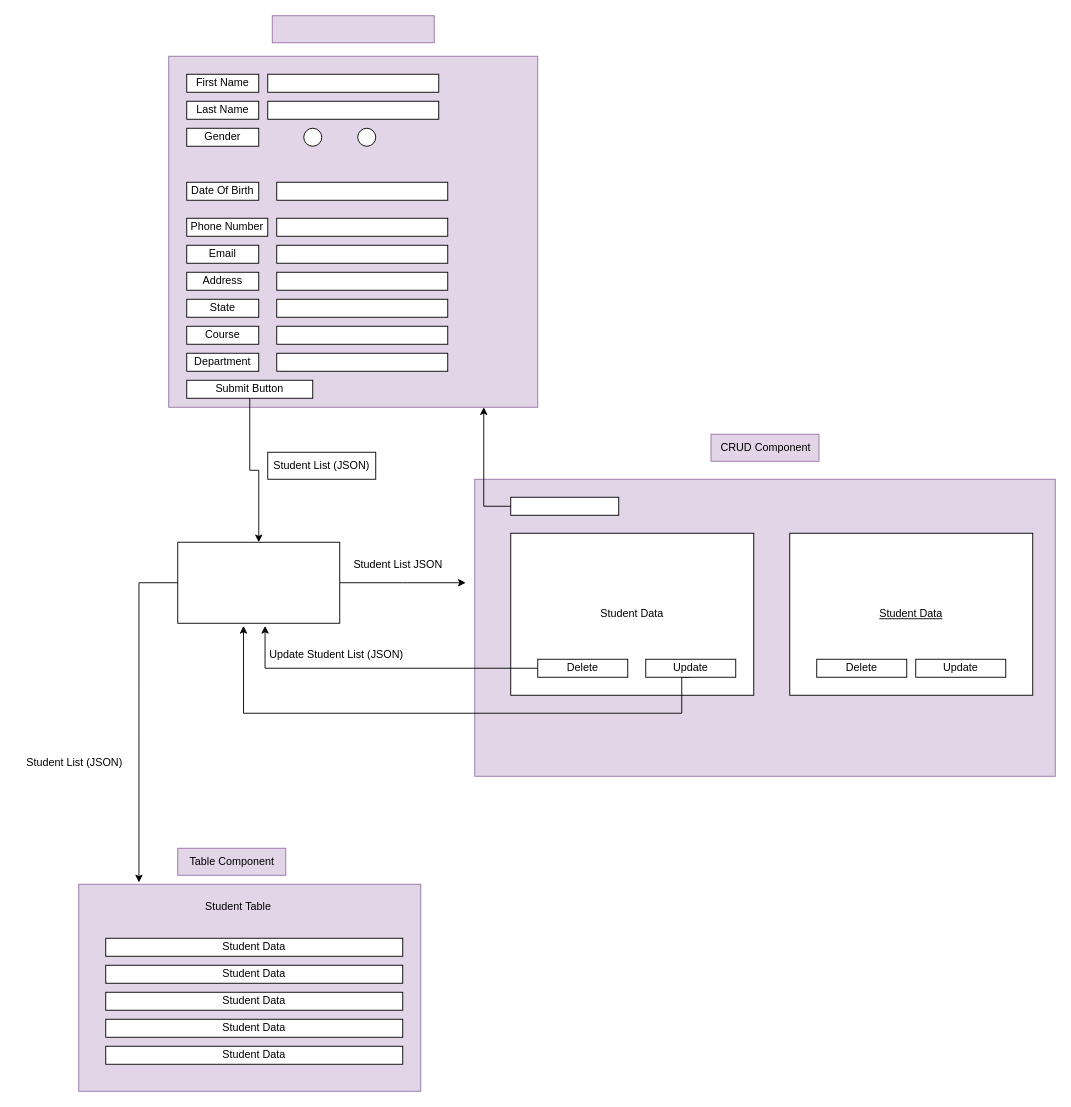
This 1071x1107 diagram has some shape labels left out. The shapes that lost their labels are listed below. From the top down, each one's centre as x and y in pixels, then its label:
(x=352, y=29): Register Student Component
(x=564, y=505): Create New Record
(x=258, y=582): Local Storage
